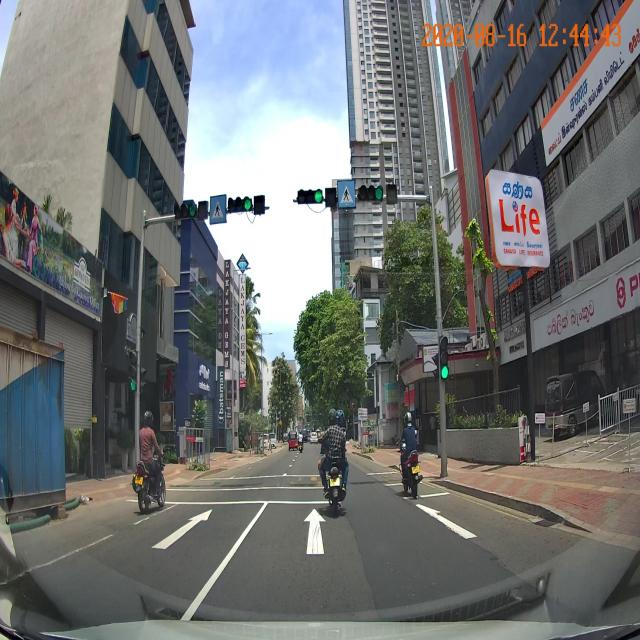Strelka vpered: (150, 509, 213, 550), (414, 504, 477, 540), (303, 508, 327, 555)
